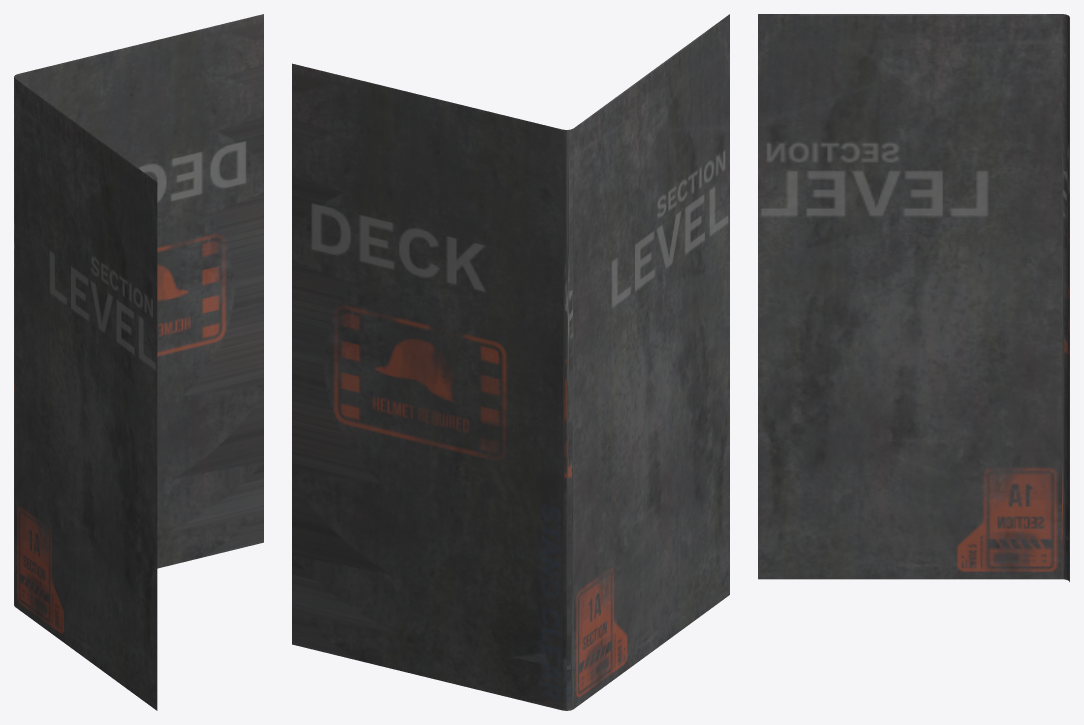
Rendered from SM_Modular_Walls_LP_polySurface21.fbx.
The picture shows the model from 3 angles, left to right: view 1: azimuth 30°, elevation 25°; view 2: azimuth 150°, elevation 25°; view 3: azimuth 270°, elevation 25°; orthographic projection. The views are drawn at different scales.
Visible parts, largest first — view 1: SM_Modular_Walls_LP_polySurface21_LOD0; view 2: SM_Modular_Walls_LP_polySurface21_LOD0; view 3: SM_Modular_Walls_LP_polySurface21_LOD0.
Part boxes in pixels (bbox=[...]): SM_Modular_Walls_LP_polySurface21_LOD0: bbox=[14, 14, 263, 710]; SM_Modular_Walls_LP_polySurface21_LOD0: bbox=[292, 14, 729, 710]; SM_Modular_Walls_LP_polySurface21_LOD0: bbox=[758, 14, 1069, 581].
Bounding box in the file's own units: 120 × 120 × 240.
1 material, 1 textured.
